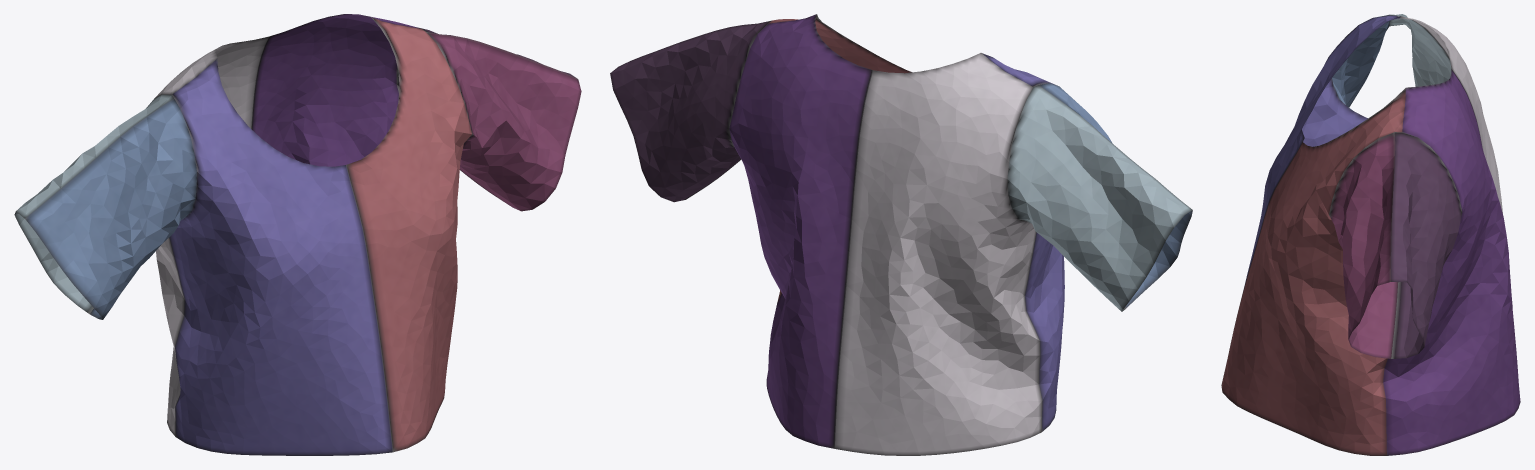
File: tee_sim.obj
The picture shows the model from 3 angles, left to right: view 1: azimuth 30°, elevation 25°; view 2: azimuth 150°, elevation 25°; view 3: azimuth 270°, elevation 25°; orthographic projection. The views are drawn at different scales.
Size of the model in its own units: 73.96 by 46.08 by 36.02.
1 material, 1 textured.
